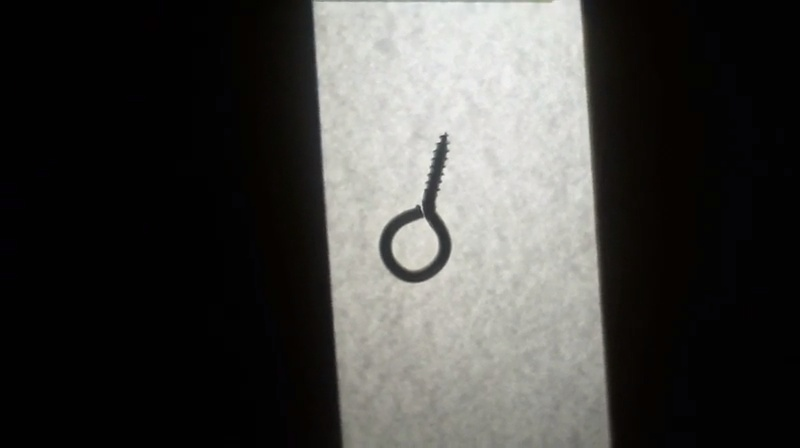O001: (374, 129, 456, 284)
